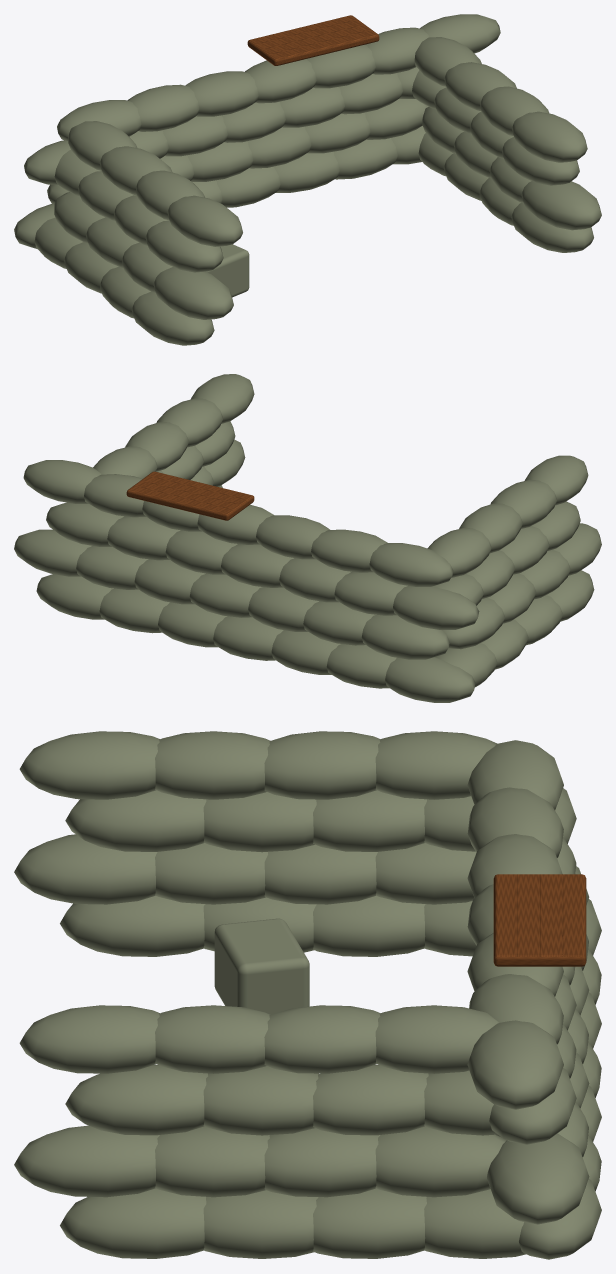
The model's file is battle-royale-town-and-airfield-sandbag-emplacement-a34c32a6__28257.glb.
3 renders of one model, top to bottom at view 1: azimuth 30°, elevation 25°; view 2: azimuth 150°, elevation 25°; view 3: azimuth 270°, elevation 25°, orthographic. The views are drawn at different scales.
Parts seen in each view (by area): view 1: sandbag-emplacement; view 2: sandbag-emplacement; view 3: sandbag-emplacement.
Part boxes in pixels (box(x1,y1,x2,y2)): sandbag-emplacement: box(14, 14, 601, 345); sandbag-emplacement: box(14, 374, 601, 702); sandbag-emplacement: box(14, 731, 601, 1259).
Bounding box in the file's own units: 4.07 × 1.22 × 2.67.
Materials: 2 (1 with a texture image).
